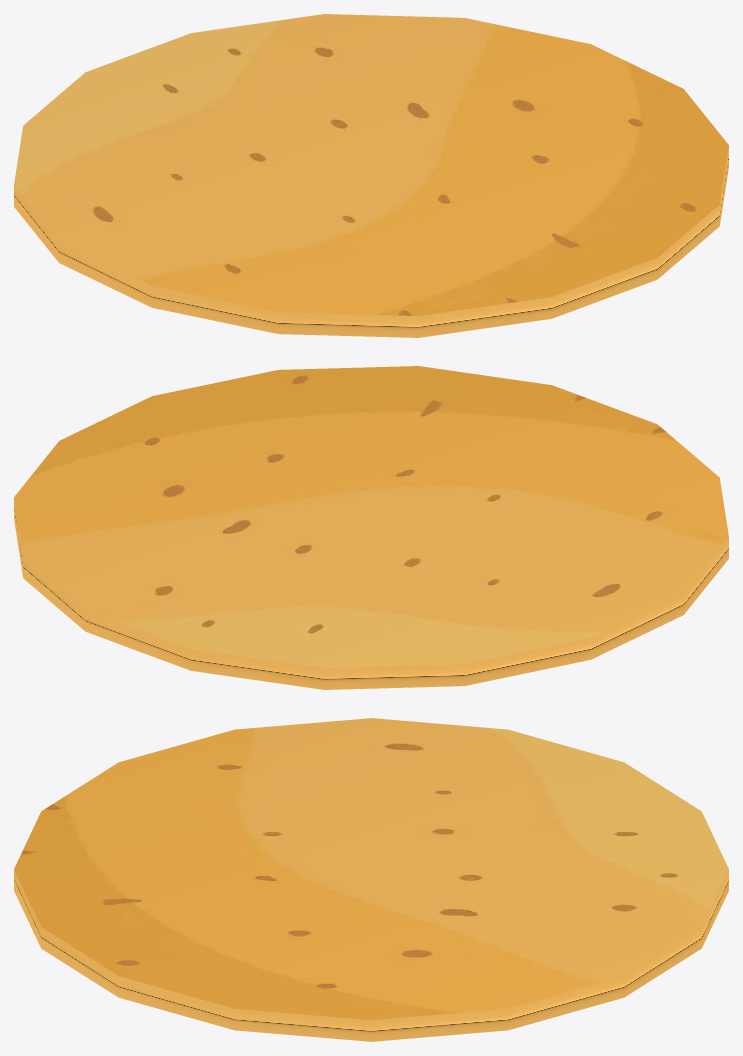
3 views of the same model, one above another, from view 1: azimuth 30°, elevation 25°; view 2: azimuth 150°, elevation 25°; view 3: azimuth 270°, elevation 25° (orthographic).
Parts seen in each view (by area): view 1: 柱体; view 2: 柱体; view 3: 柱体.
Part boxes in pixels (box(x1,y1,x2,y2)): 柱体: box(14, 14, 728, 337); 柱体: box(14, 366, 728, 689); 柱体: box(14, 718, 728, 1041).
Size of the model in its own units: 200 by 6.67 by 200.
